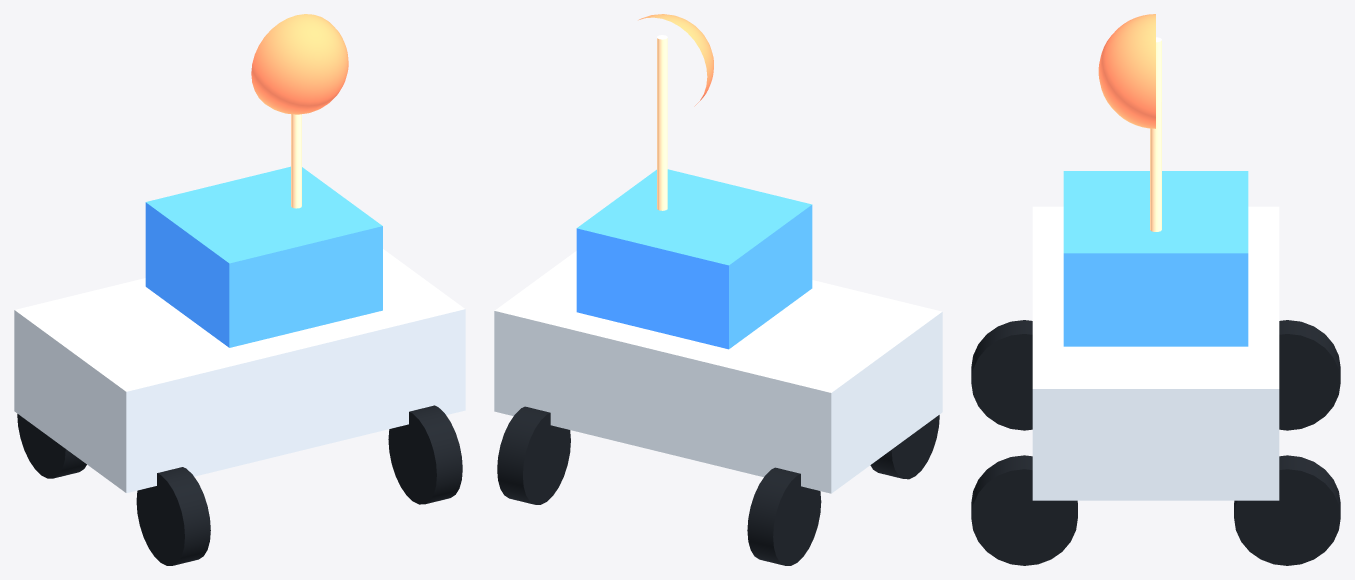
The model's file is mono-rover.glb.
The picture shows the model from 3 angles, left to right: view 1: azimuth 30°, elevation 25°; view 2: azimuth 150°, elevation 25°; view 3: azimuth 270°, elevation 25°; orthographic projection. The views are drawn at different scales.
Visible parts, largest first — view 1: MonoRover; view 2: MonoRover; view 3: MonoRover.
Boxes of the visible parts, box(x1,y1,x2,y2) form: MonoRover: box(14, 14, 465, 565); MonoRover: box(494, 14, 942, 565); MonoRover: box(971, 14, 1340, 565).
Size of the model in its own units: 2.1 by 2.7 by 1.8.
